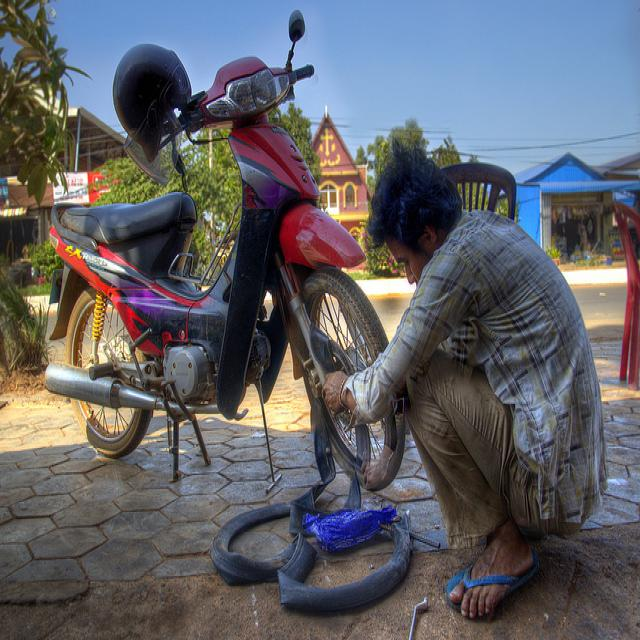motor: (40, 24, 410, 495)
